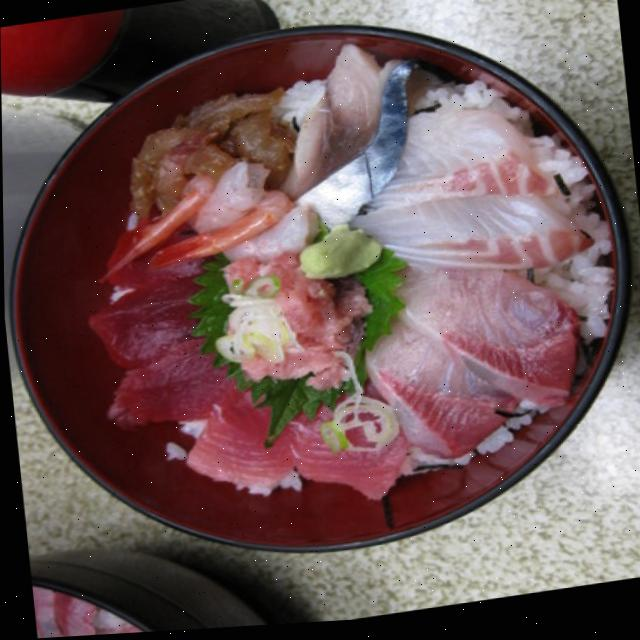刺身生食: (0, 0, 640, 595)
